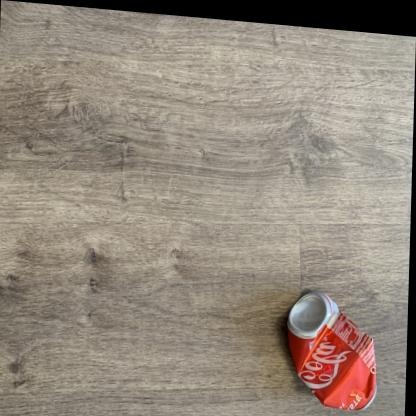trash: (287, 291, 375, 409)
